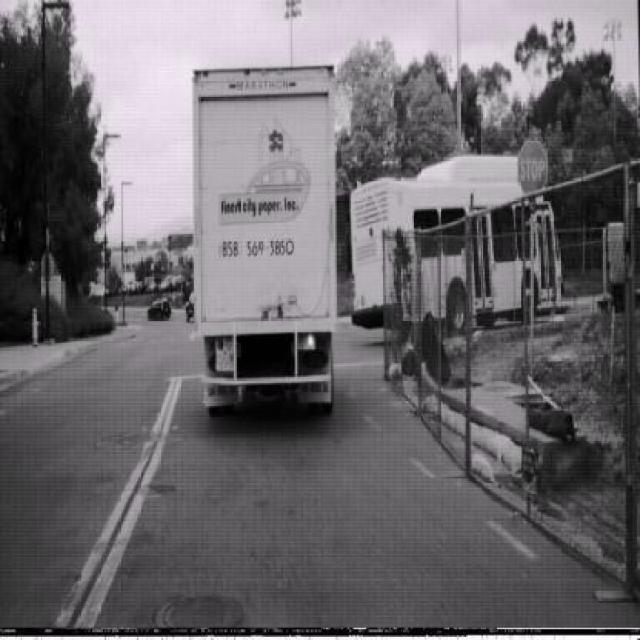stop: (517, 138, 548, 198)
